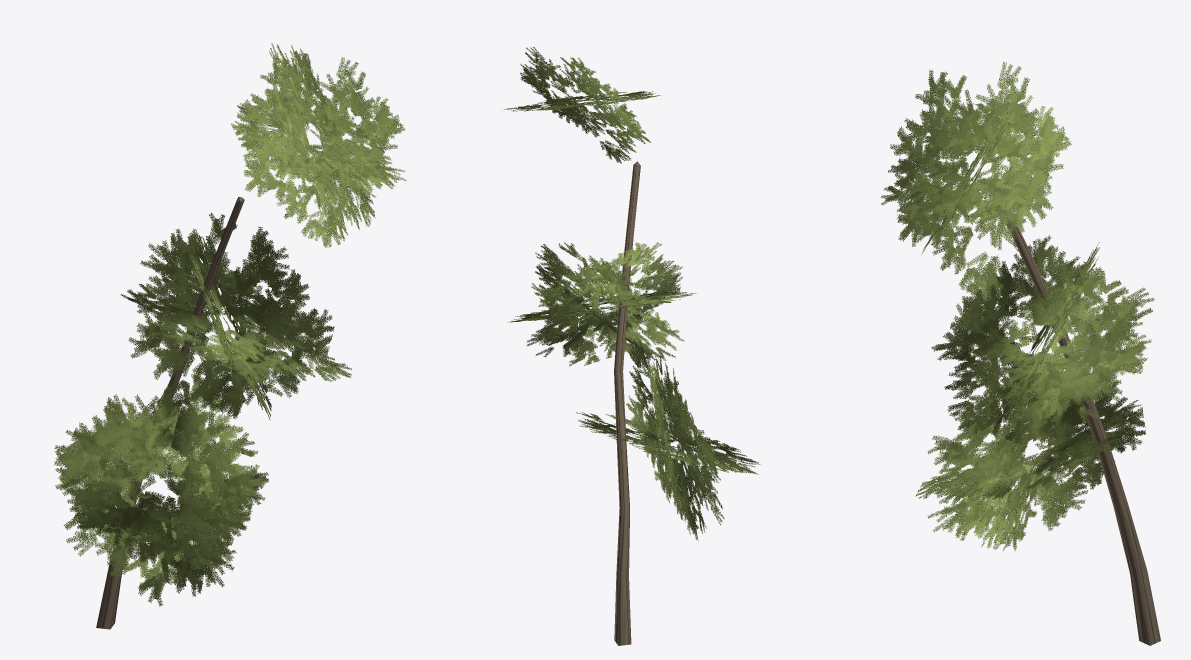
File: seedling-a.lod0.glb
The picture shows the model from 3 angles, left to right: view 1: azimuth 30°, elevation 25°; view 2: azimuth 150°, elevation 25°; view 3: azimuth 270°, elevation 25°; orthographic projection. The views are drawn at different scales.
Visible parts, largest first — view 1: foliage, bark; view 2: foliage, bark; view 3: foliage, bark.
Part boxes in pixels (bbox=[...]): foliage: bbox=[54, 43, 406, 606]; bark: bbox=[96, 197, 244, 629]; foliage: bbox=[504, 47, 760, 540]; bark: bbox=[614, 161, 640, 645]; foliage: bbox=[881, 62, 1154, 550]; bark: bbox=[993, 190, 1160, 645].
Size of the model in its own units: 0.2078 by 0.35 by 0.1622.
Materials: 2 (2 with a texture image).
